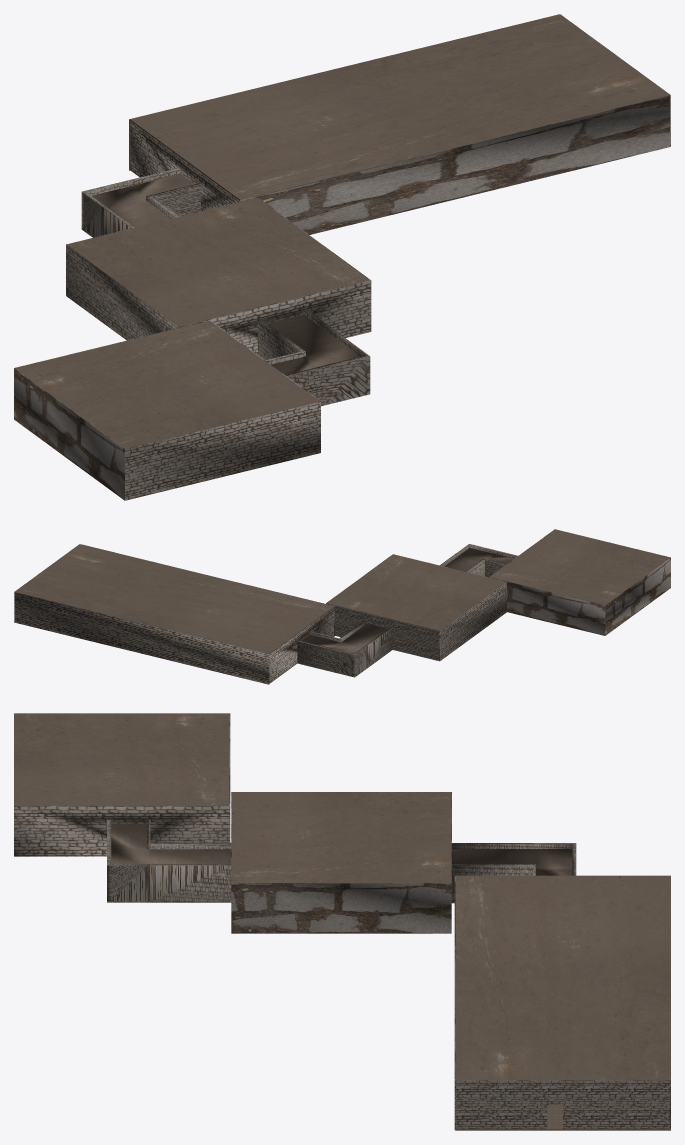
The model's file is room5.fbx.
3 renders of one model, top to bottom at view 1: azimuth 30°, elevation 25°; view 2: azimuth 150°, elevation 25°; view 3: azimuth 270°, elevation 25°, orthographic. The views are drawn at different scales.
Visible parts, largest first — view 1: Roof.002, Wall__2_.004, Roof.001, Roof, Wall__2_, Wall__2_.003, CorridorWall, CorridorWall.001, CorridorRoof, CorridorRoof.001; view 2: Roof.002, Wall__2_.004, Roof.001, Roof, Wall__2_, Wall__2_.003, CorridorWall.001, CorridorRoof.001, CorridorWall, CorridorRoof; view 3: Roof.002, Roof, Roof.001, Wall__2_.003, Wall__2_.004, Wall__2_, CorridorWall, CorridorRoof, CorridorRoof.001, CorridorWall.001, Floor.002.
Part boxes in pixels (<box>): Roof.002: <box>130,14,669,200</box>; Wall__2_.004: <box>129,15,670,234</box>; Roof.001: <box>66,198,369,326</box>; Roof: <box>15,320,319,448</box>; Wall__2_: <box>14,320,320,500</box>; Wall__2_.003: <box>66,197,371,354</box>; CorridorWall: <box>258,309,370,406</box>; CorridorWall.001: <box>81,168,200,237</box>; CorridorRoof: <box>268,315,359,374</box>; CorridorRoof.001: <box>92,174,194,227</box>; Roof.002: <box>14,544,334,654</box>; Wall__2_.004: <box>14,544,334,684</box>; Roof.001: <box>327,554,506,631</box>; Roof: <box>490,529,670,605</box>; Wall__2_: <box>489,529,670,635</box>; Wall__2_.003: <box>326,554,506,661</box>; CorridorWall.001: <box>297,620,392,677</box>; CorridorRoof.001: <box>301,624,387,653</box>; CorridorWall: <box>440,544,517,577</box>; CorridorRoof: <box>444,548,513,571</box>; Roof.002: <box>455,875,670,1081</box>; Roof: <box>14,713,229,806</box>; Roof.001: <box>232,792,451,882</box>; Wall__2_.003: <box>231,792,451,933</box>; Wall__2_.004: <box>454,876,670,1130</box>; Wall__2_: <box>14,713,230,856</box>; CorridorWall: <box>107,819,231,902</box>; CorridorRoof: <box>111,824,231,864</box>; CorridorRoof.001: <box>451,849,572,875</box>; CorridorWall.001: <box>451,843,576,903</box>; Floor.002: <box>455,1105,670,1130</box>.
Size of the model in its own units: 10778 by 687 by 8146.
